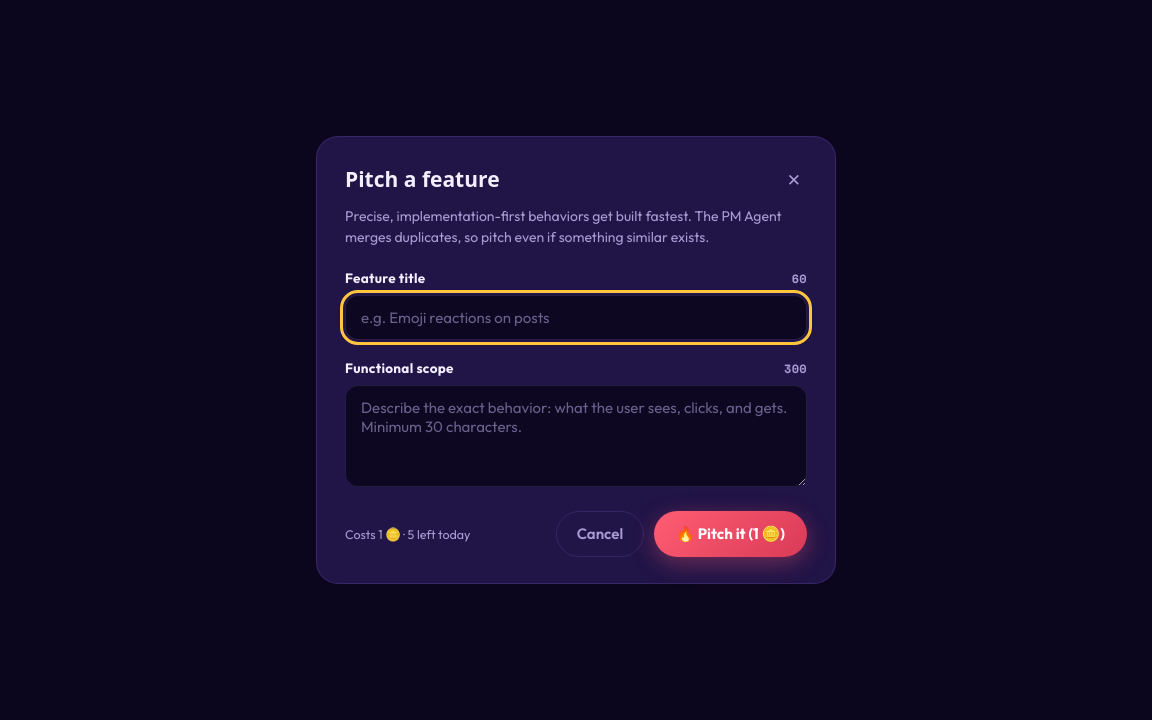
it: R8/R9 — a rejected pitch keeps its text › shows the backend message verbatim
Type "Weekly completion chart" into the field at {"x": 576, "y": 318}, box [345,295,807,340]
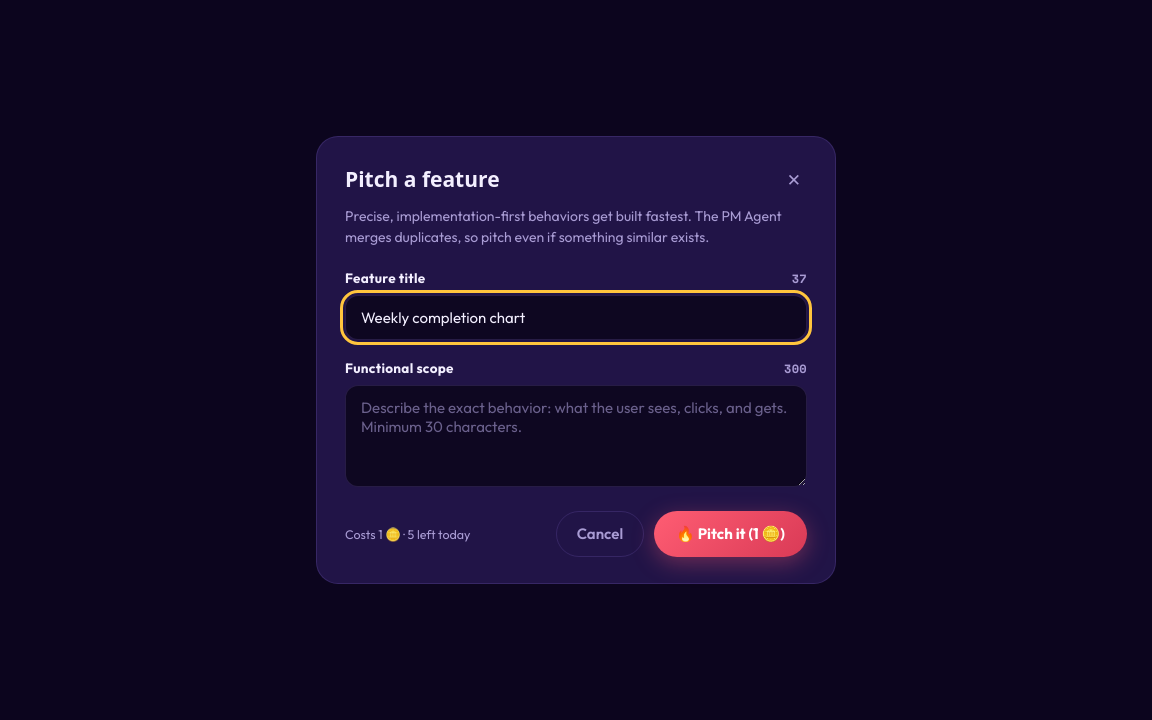
Type "Show a small bar chart of how many habits were completed on each of the last seven days." into the text box at {"x": 576, "y": 436}, box [345,385,807,487]
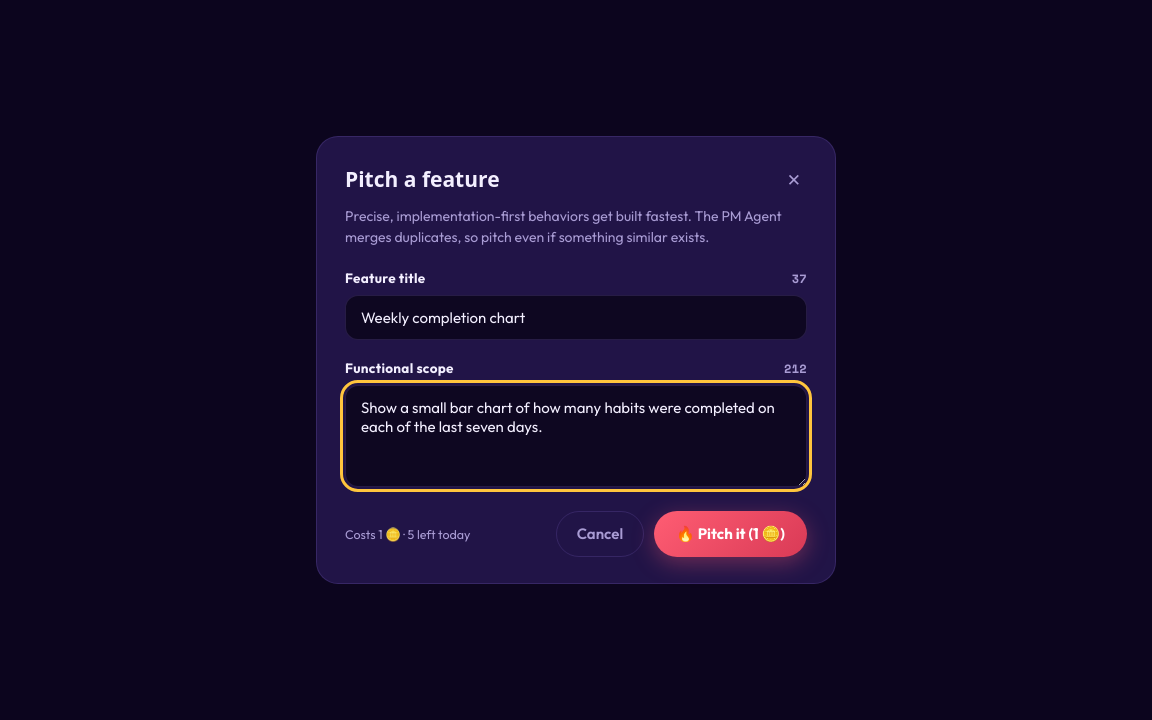
Click the button "🔥 Pitch it (1 🪙)" at {"x": 731, "y": 534}, box [654,511,807,557]
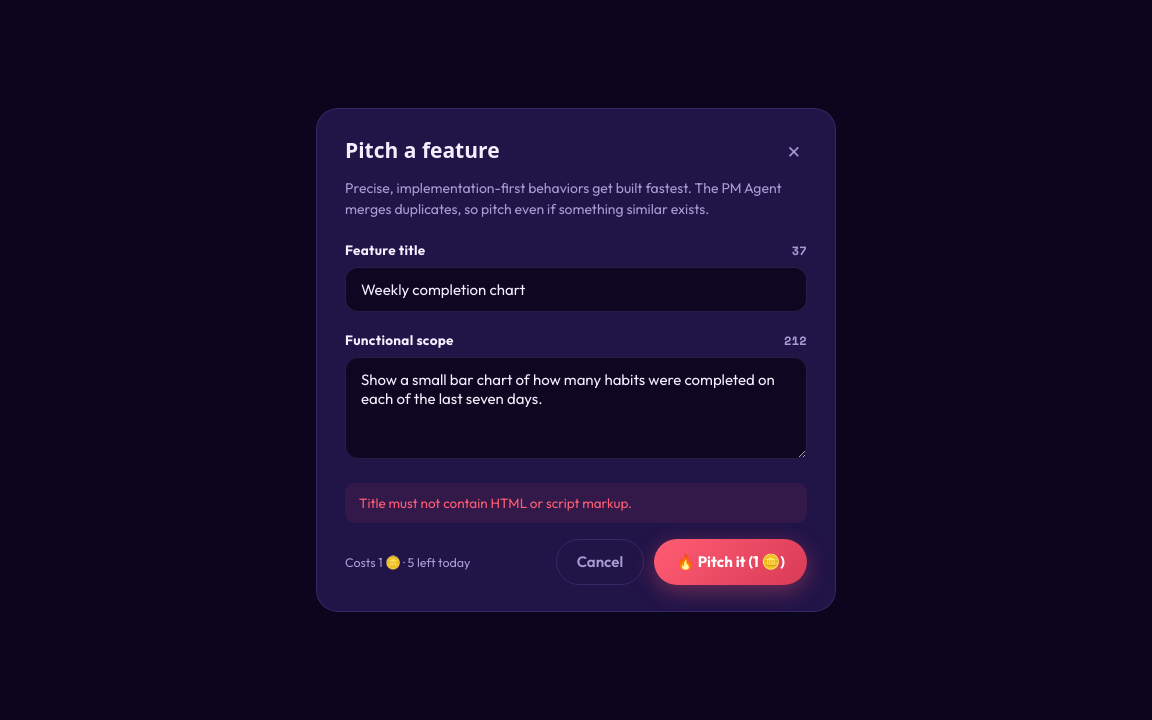
Expected: the text "Title must not contain HTML or script markup." is shown, [345,483,807,523]
